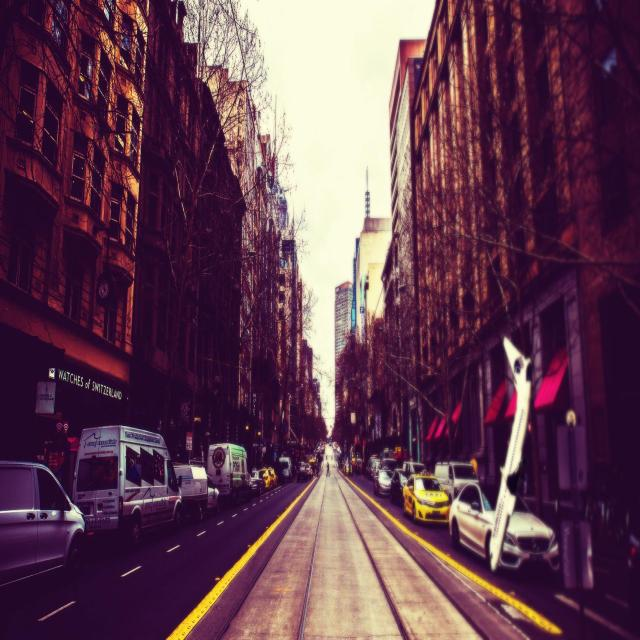airplane: (489, 336, 532, 574)
